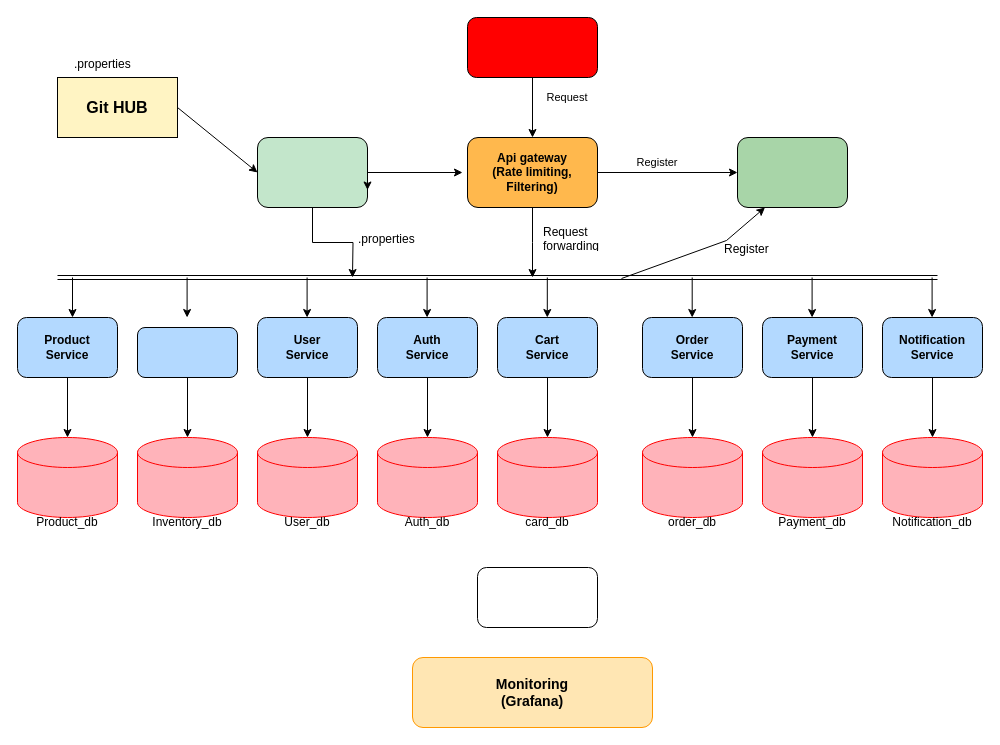
Image size: 1000x745. Some labels were removed from this diagram. Here are the shapes that lost their labels. From the top down, the centre of each, then its label:
point 532,47: client (Mobile/Browser)
point 312,172: Config Server
point 792,172: Eureka Server
point 187,352: Inventory Service
point 537,597: Event Streaming (Kafka)
